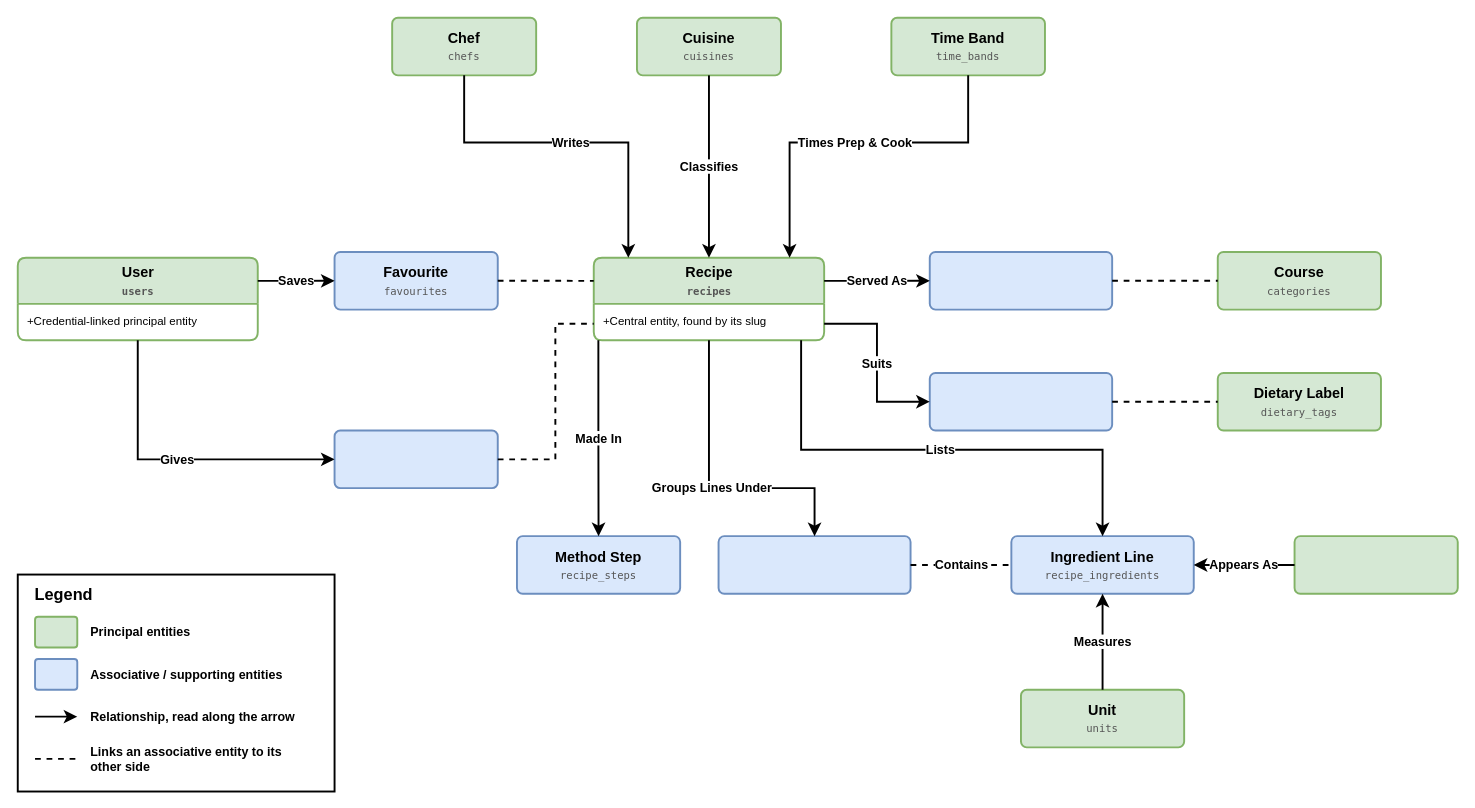
Some shapes in this 1475 by 808 pixel diagram are drawn without their labels. The box of each missing label's shape, as (x1, y1, x2, y2) in pixels:
Course Assignment recipe_category: (928, 251, 1113, 310)
Dietary Labelling recipe_dietary_tag: (928, 372, 1113, 431)
Ingredient ingredients: (1293, 535, 1458, 594)
Ingredient Section recipe_ingredient_sections: (717, 535, 911, 594)
Rating ratings: (333, 429, 498, 489)
